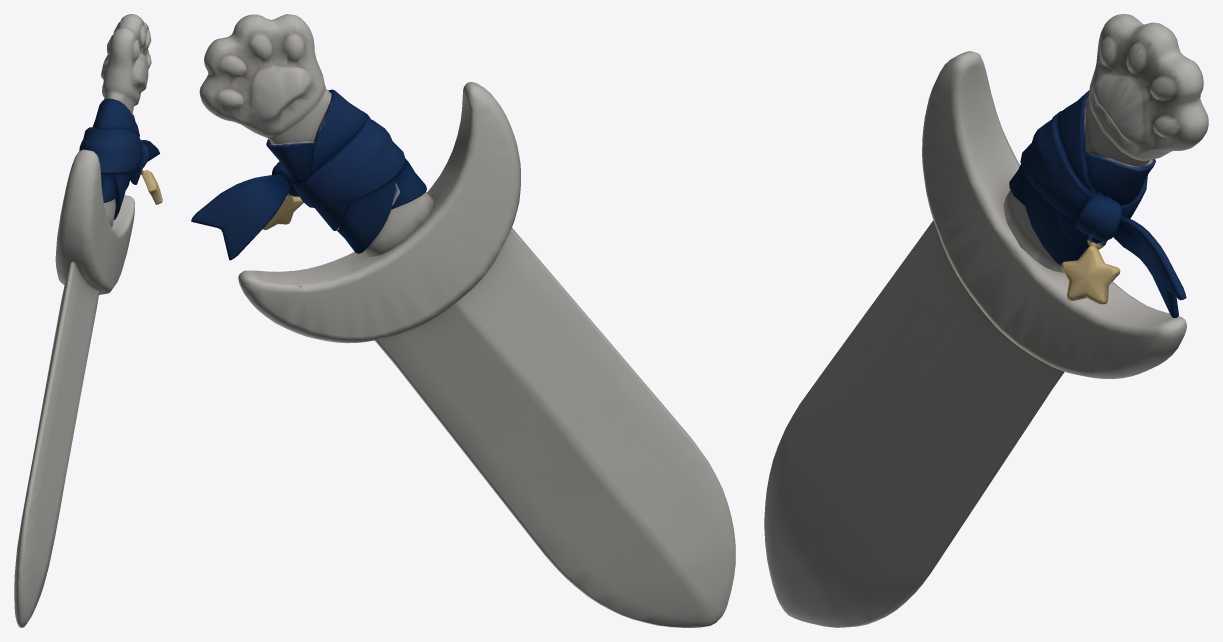
File: moonlit-knight-blade.glb
3 views of the same model, side by side, from view 1: azimuth 30°, elevation 25°; view 2: azimuth 150°, elevation 25°; view 3: azimuth 270°, elevation 25° (orthographic). The views are drawn at different scales.
Visible parts, largest first — view 1: tripo_node_cf680610-9e99-436d-858f-dd3d1160e32b; view 2: tripo_node_cf680610-9e99-436d-858f-dd3d1160e32b; view 3: tripo_node_cf680610-9e99-436d-858f-dd3d1160e32b.
Boxes of the visible parts, <box> form: tripo_node_cf680610-9e99-436d-858f-dd3d1160e32b: <box>14,14,162,627</box>; tripo_node_cf680610-9e99-436d-858f-dd3d1160e32b: <box>191,14,735,627</box>; tripo_node_cf680610-9e99-436d-858f-dd3d1160e32b: <box>764,14,1208,627</box>.
Bounding box in the file's own units: 0.5953 × 0.9995 × 0.5252.
1 material, 1 textured.
